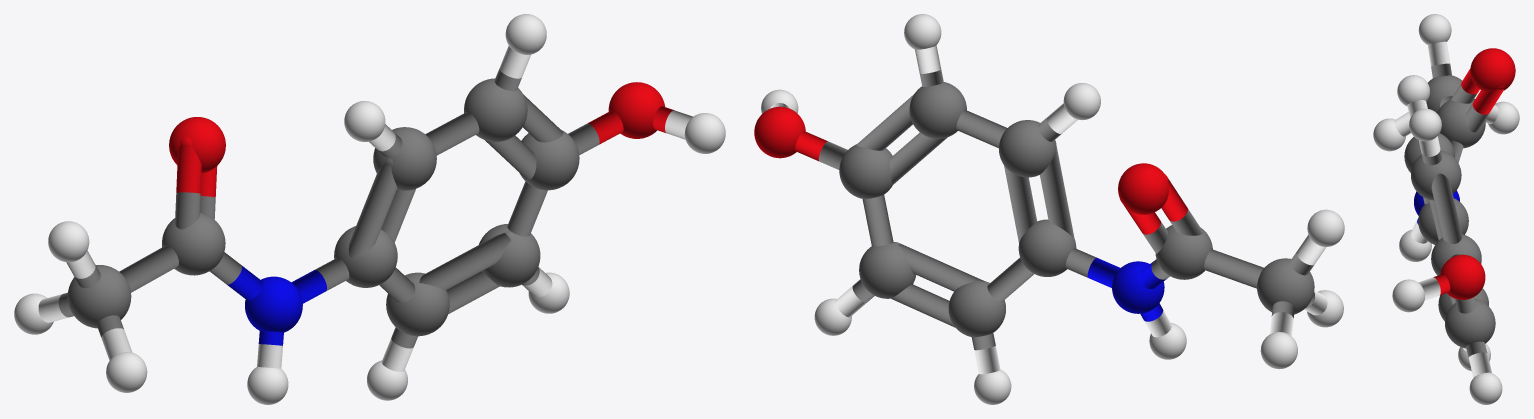
File: acetaminophen.glb
3 views of the same model, side by side, from view 1: azimuth 30°, elevation 25°; view 2: azimuth 150°, elevation 25°; view 3: azimuth 270°, elevation 25° (orthographic). The views are drawn at different scales.
Parts seen in each view (by area): view 1: model; view 2: model; view 3: model.
Part boxes in pixels (<box>): model: <box>14,14,725,404</box>; model: <box>754,14,1344,404</box>; model: <box>1373,14,1519,404</box>.
Bounding box in the file's own units: 9.29 × 5.13 × 2.26.
